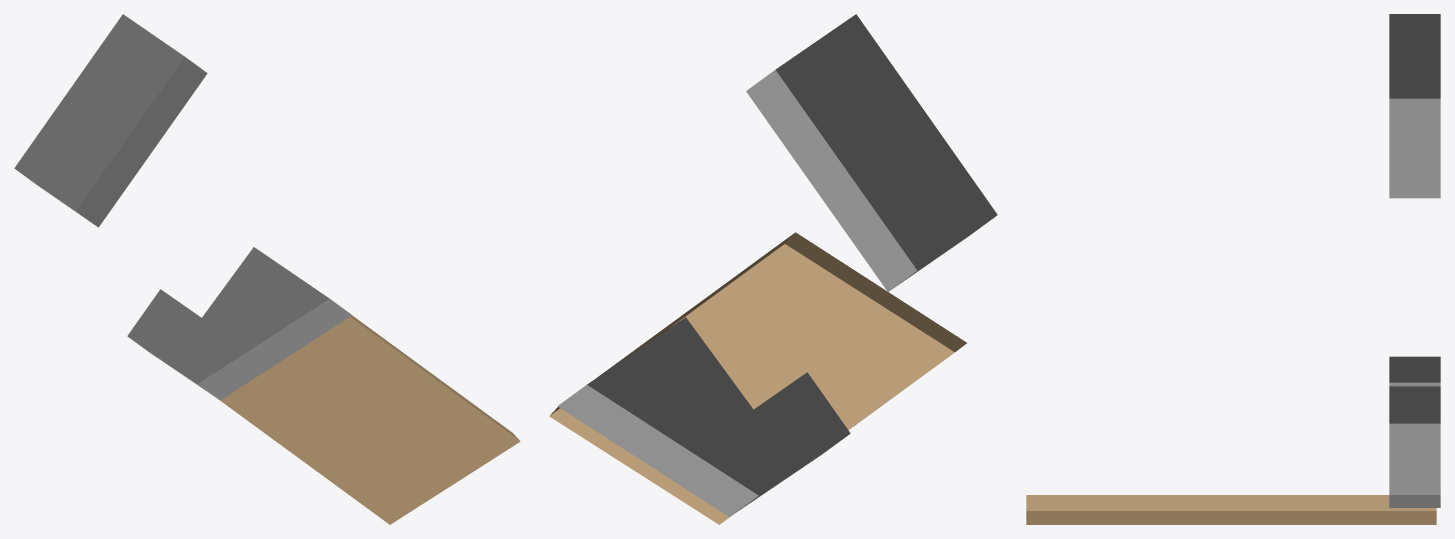
3 views of the same model, side by side, from view 1: azimuth 30°, elevation 25°; view 2: azimuth 150°, elevation 25°; view 3: azimuth 270°, elevation 25° (orthographic). The views are drawn at different scales.
Visible parts, largest first — view 1: 0_2_3_2_2_0_2_2_2; view 2: 0_2_3_2_2_0_2_2_2; view 3: 0_2_3_2_2_0_2_2_2.
Part boxes in pixels (<box>): 0_2_3_2_2_0_2_2_2: <box>14,14,520,524</box>; 0_2_3_2_2_0_2_2_2: <box>549,14,997,524</box>; 0_2_3_2_2_0_2_2_2: <box>1026,14,1440,524</box>.
Bounding box in the file's own units: 24.78 × 29.09 × 24.23.
